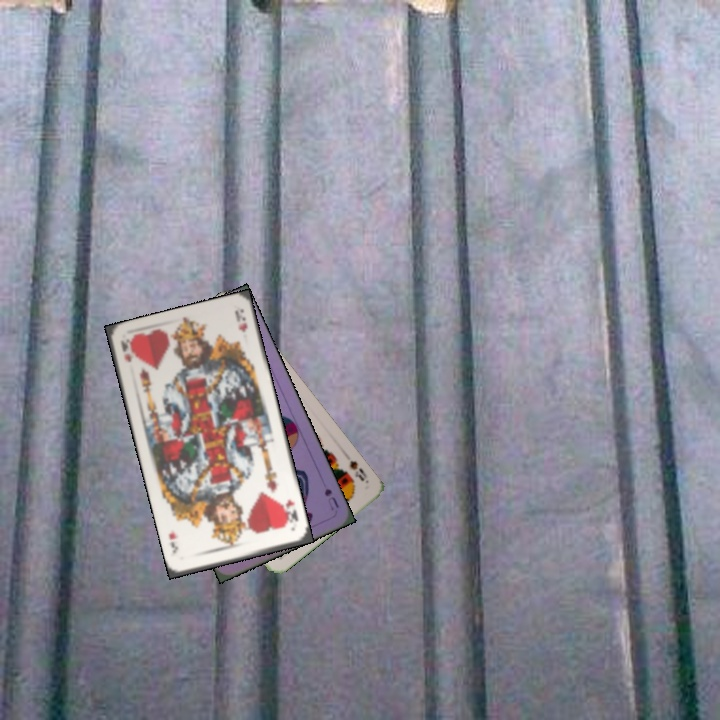HK: (279, 496, 301, 526), (117, 337, 136, 365)
S8: (345, 456, 370, 484)
SU: (320, 484, 341, 513)
